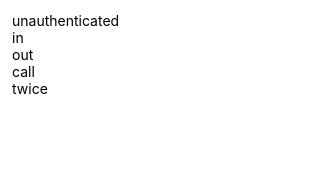
Scenario: IR4. a renewal that cannot reach the server keeps the driver signed in and the secret kept (F-34) — and says so
This screenshot has width=332, height=172.
Click the element with test id "sign-in". click: (18, 38)
box: [12, 29, 24, 46]
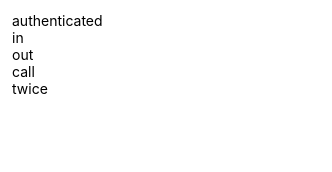
Expected: the text with test id "status" reads "authenticated", [12, 12, 103, 29]
Click the element with test id "call". click: (23, 72)
box: [12, 63, 35, 80]
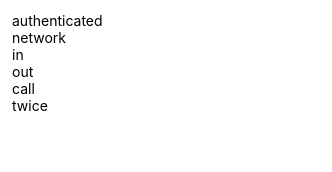
Expected: the element with test id "outcomes" does not show ""
Expected: the text with test id "status" reads "authenticated", [12, 12, 103, 29]
Expected: the text with test id "outcomes" reads "network", [12, 29, 66, 46]
